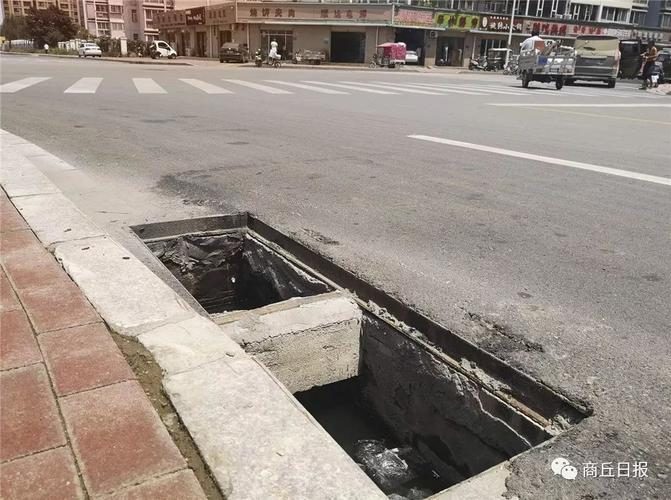lose: (107, 204, 597, 495)
